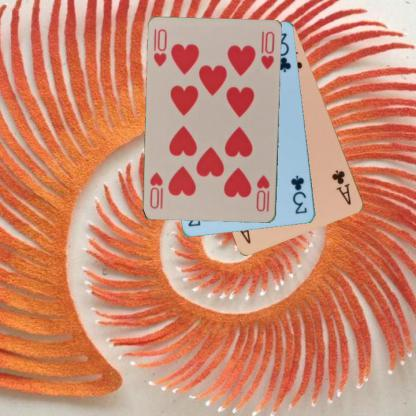10h: (254, 172, 271, 213), (152, 27, 168, 68)
3c: (288, 172, 308, 216)
Ac: (330, 167, 352, 206)
